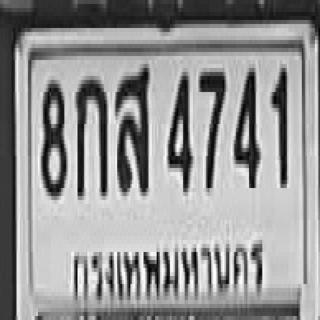A01: (74, 72, 106, 196)
A40: (114, 60, 149, 192)
N01: (271, 64, 285, 184)
N04: (232, 64, 259, 184), (167, 68, 191, 188)
N07: (198, 68, 224, 188)
N08: (40, 76, 66, 196)
P04: (67, 228, 270, 311)
